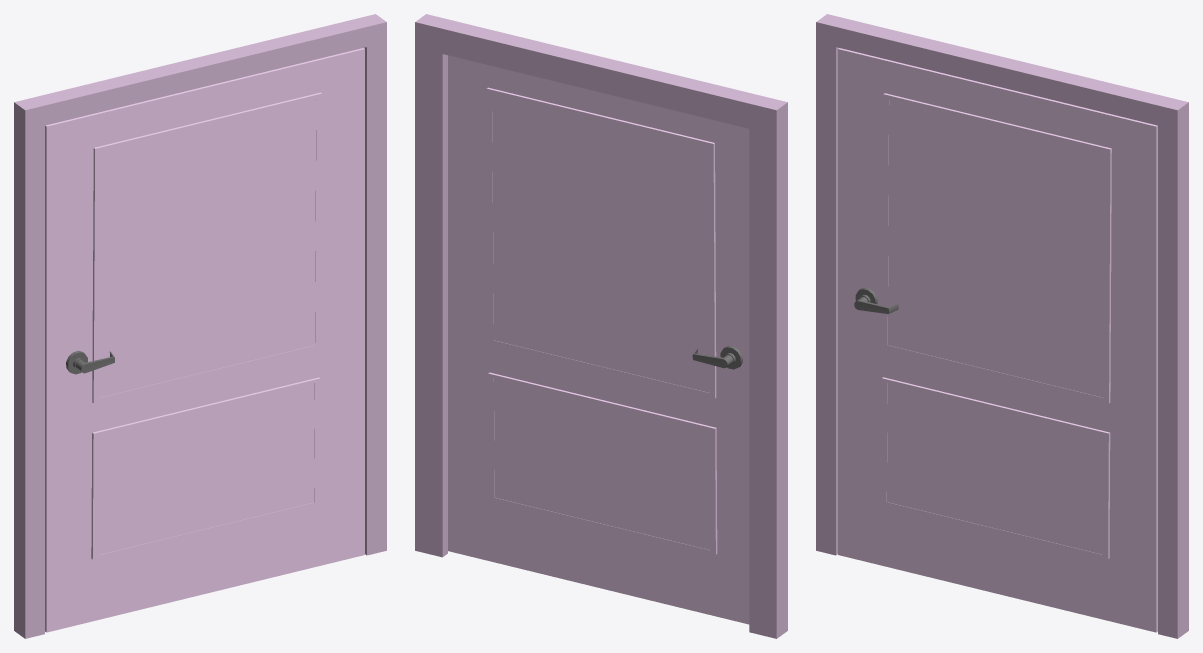
Rendered from door.fbx.
3 renders of one model, left to right at view 1: azimuth 30°, elevation 25°; view 2: azimuth 150°, elevation 25°; view 3: azimuth 330°, elevation 25°, orthographic.
Parts seen in each view (by area): view 1: door; view 2: door; view 3: door.
Boxes of the visible parts, box(x1,y1,x2,y2) form: door: box(14, 14, 386, 638); door: box(415, 14, 787, 638); door: box(816, 14, 1188, 638).
Bounding box in the file's own units: 201 × 280 × 21.49.
